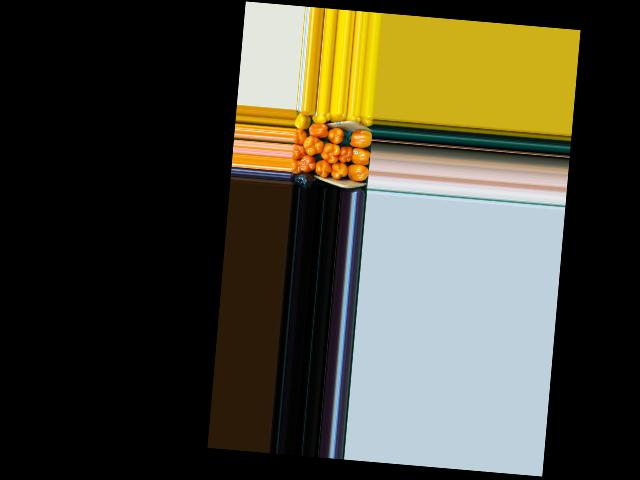bell_pepper: (311, 112, 333, 124)
